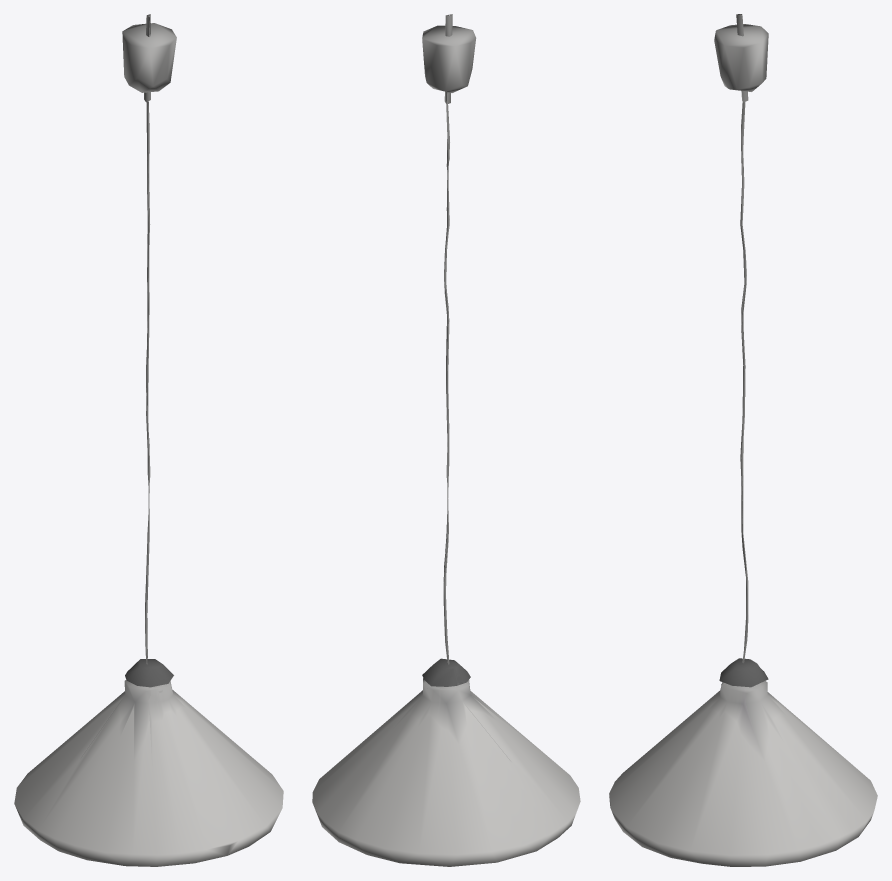
File: LightTop0002.obj
3 views of the same model, side by side, from view 1: azimuth 30°, elevation 25°; view 2: azimuth 150°, elevation 25°; view 3: azimuth 270°, elevation 25° (orthographic).
Size of the model in its own units: 0.463 by 1.52 by 0.463.
1 material, 1 textured.
